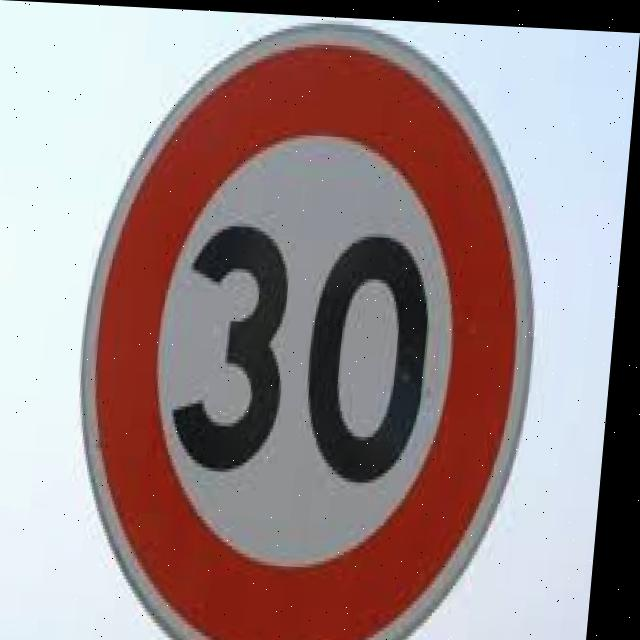Speed limit 30: (66, 9, 564, 640)
